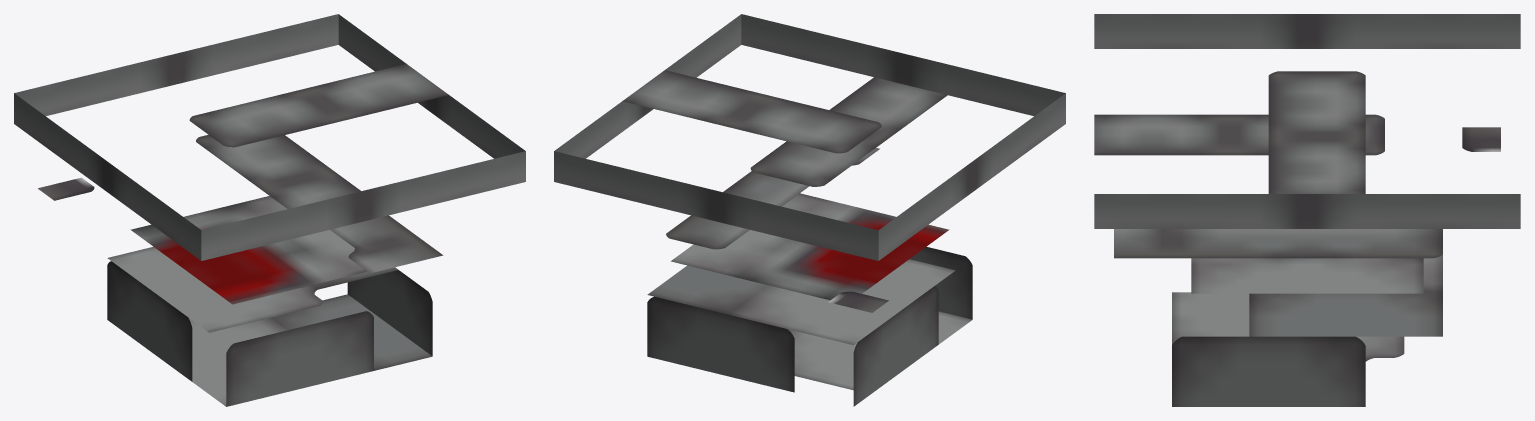
File: rocket_bottom.obj
The picture shows the model from 3 angles, left to right: view 1: azimuth 30°, elevation 25°; view 2: azimuth 150°, elevation 25°; view 3: azimuth 270°, elevation 25°; orthographic projection. The views are drawn at different scales.
Visible parts, largest first — view 1: RocketBottom_Cube.013; view 2: RocketBottom_Cube.013; view 3: RocketBottom_Cube.013.
Part boxes in pixels (<box>): RocketBottom_Cube.013: <box>14,14,525,406</box>; RocketBottom_Cube.013: <box>554,14,1065,406</box>; RocketBottom_Cube.013: <box>1094,14,1520,406</box>.
Size of the model in its own units: 1.38 by 0.875 by 1.38.
